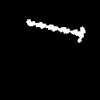half_double_crochet: (27, 20, 84, 42)
